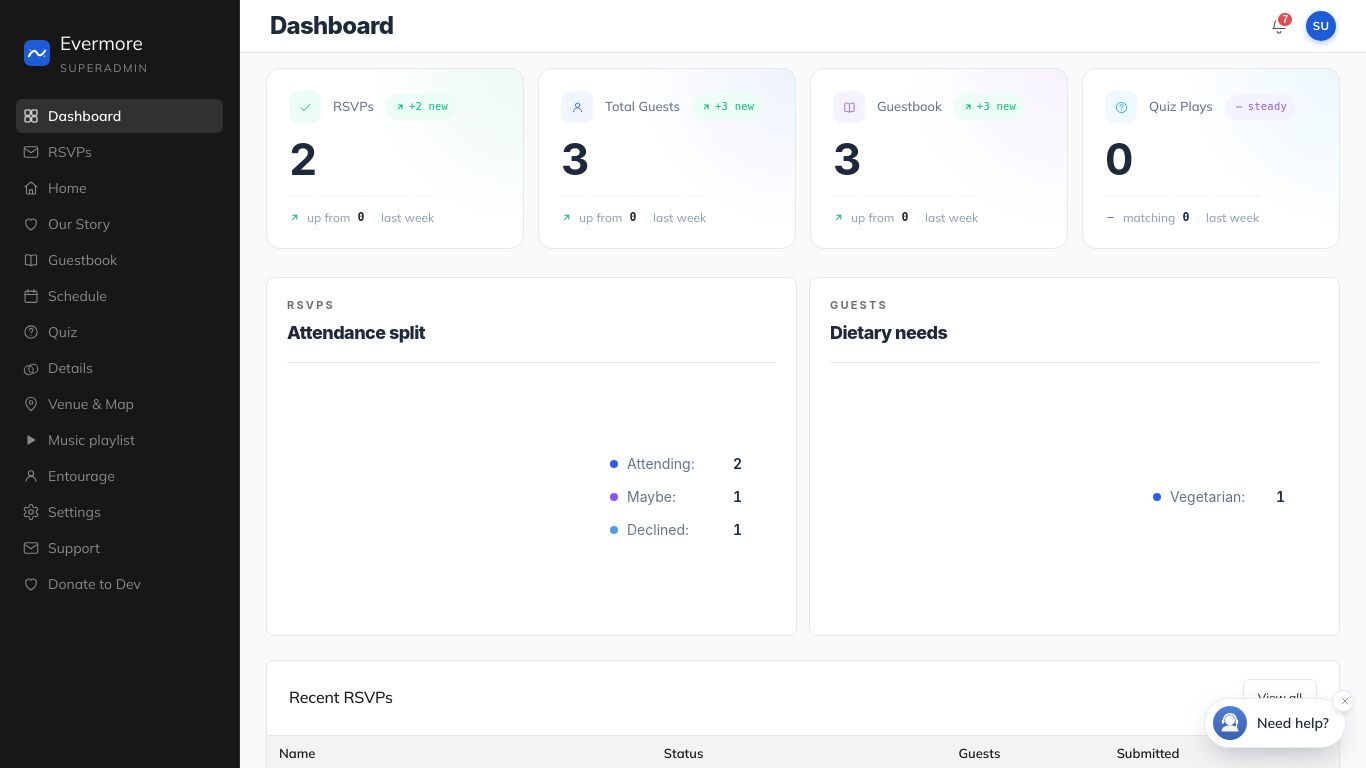
Test: accessV2 — owner tabs from featureLevel › Show-to-Home preview falls back to SAMPLE data with a tag when the module is empty
The width and height of the screenshot is (1366, 768).
Click the button "Schedule" at (120, 296), box [16,280,223,314]
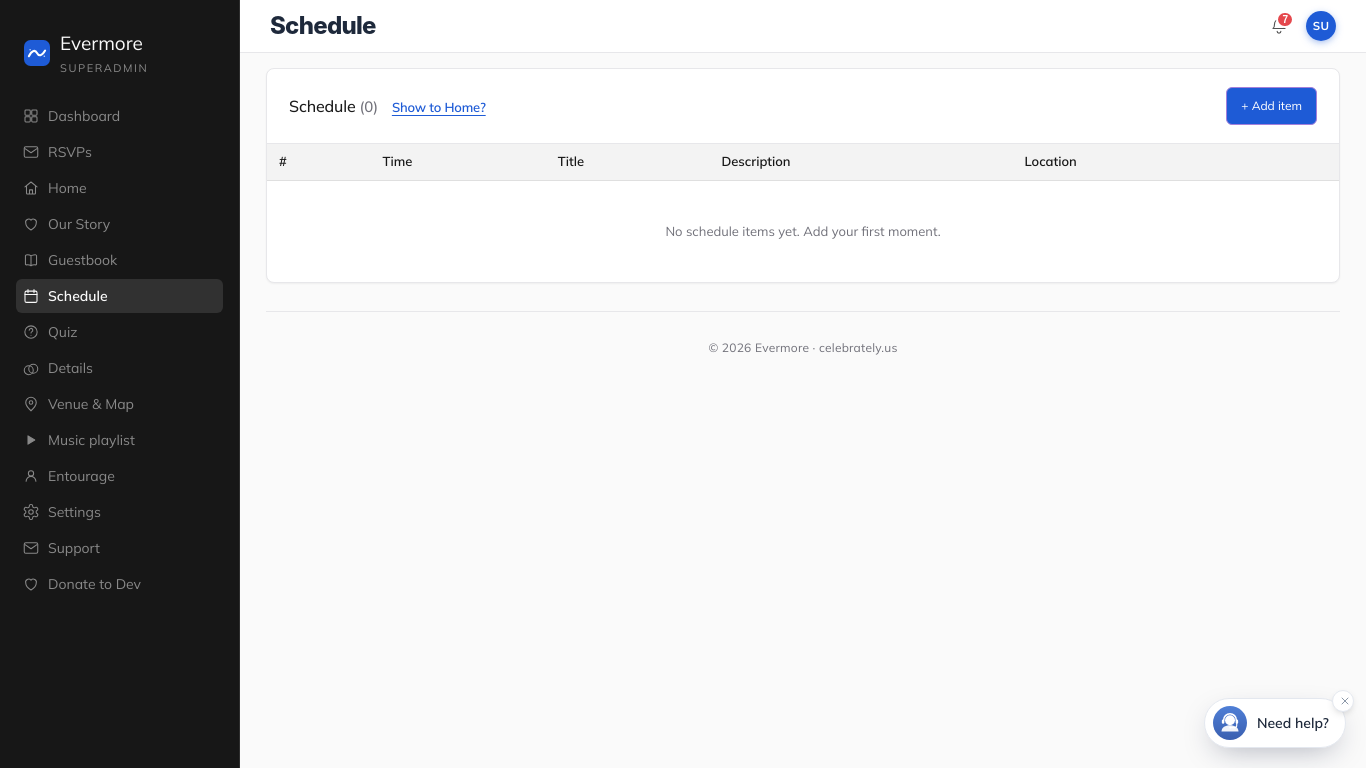
Click the link "Show to Home?" at (439, 107), box [392,99,486,115]
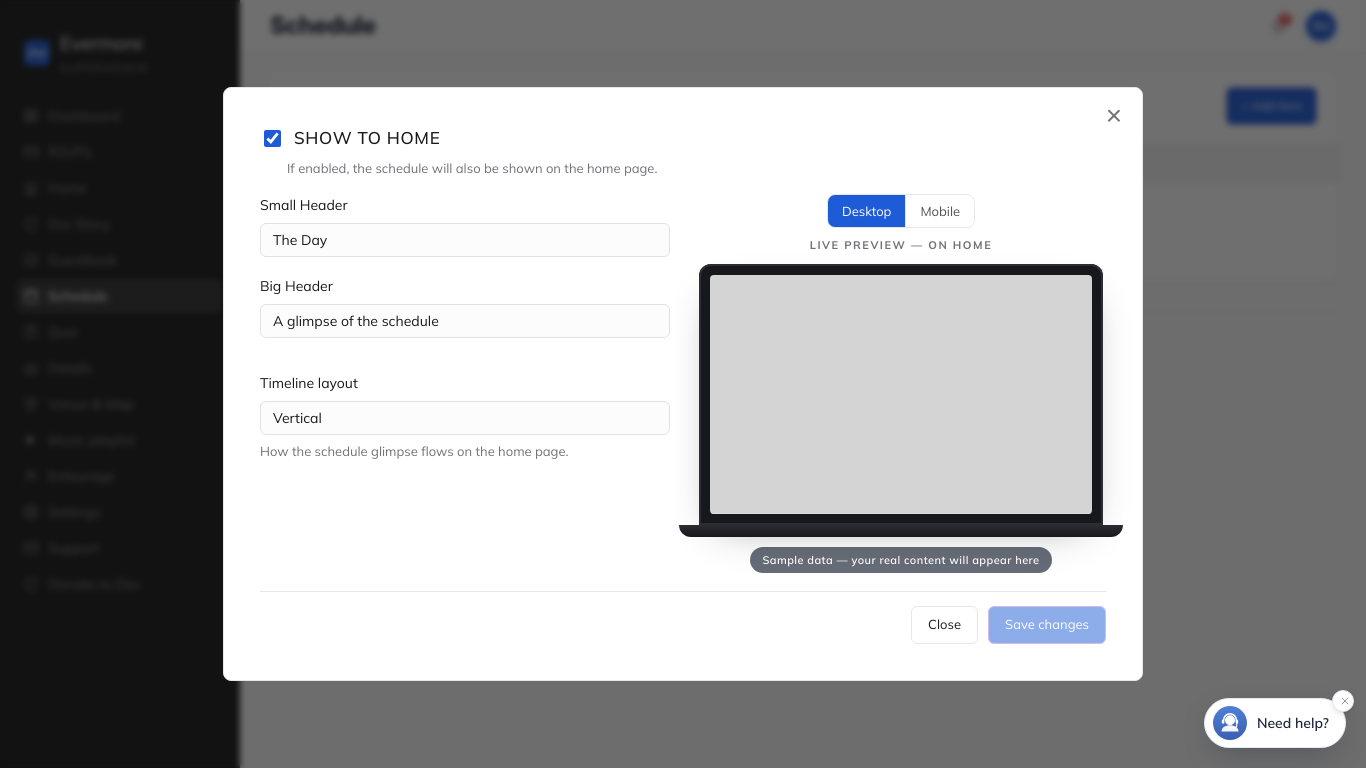
Expected: the text "Sample data" is shown, [762,553,1040,567]
